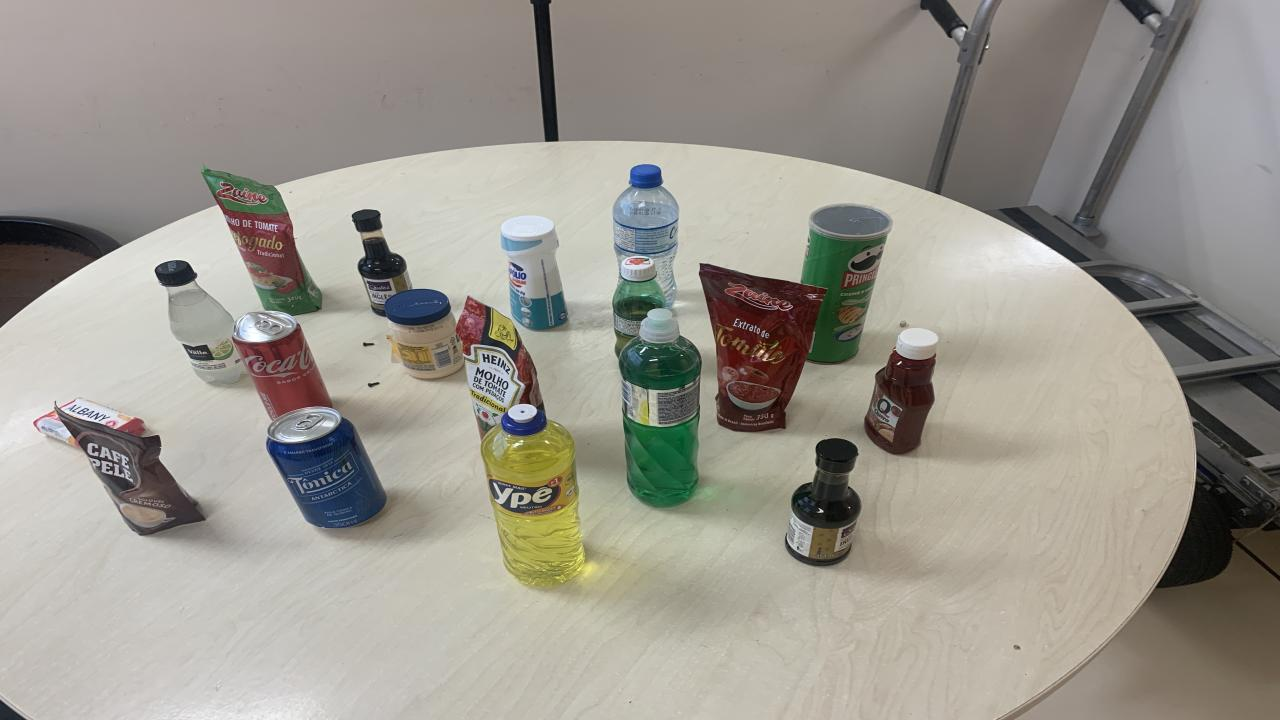Cleaner-Cleanup_Items: (500, 216, 568, 330), (640, 218, 642, 219)
Coffee-Pantry_Items: (55, 407, 205, 534)
Coke-Drinks: (232, 311, 332, 418)
Detergent-Cleanup_Items: (480, 405, 585, 587), (620, 308, 700, 506)
English_Sauce-Pantry_Items: (785, 439, 860, 566), (352, 210, 410, 315)
Guarana-Drinks: (612, 255, 665, 354)
Ketchup-Pantry_Items: (865, 328, 938, 454)
Mayonnaise-Pantry_Items: (385, 289, 465, 379)
Pringles-Snacks: (802, 204, 892, 364)
Soap-Cleanup_Items: (60, 398, 145, 435), (35, 411, 78, 446)
Soda-Drinks: (155, 261, 245, 384)
Tomato_Sauce-Pantry_Items: (700, 264, 825, 431), (202, 167, 322, 315), (458, 296, 545, 437)
Tonic-Drinks: (268, 407, 385, 529), (558, 506, 560, 510)
Water_Bottle-Drinks: (612, 165, 680, 308)
